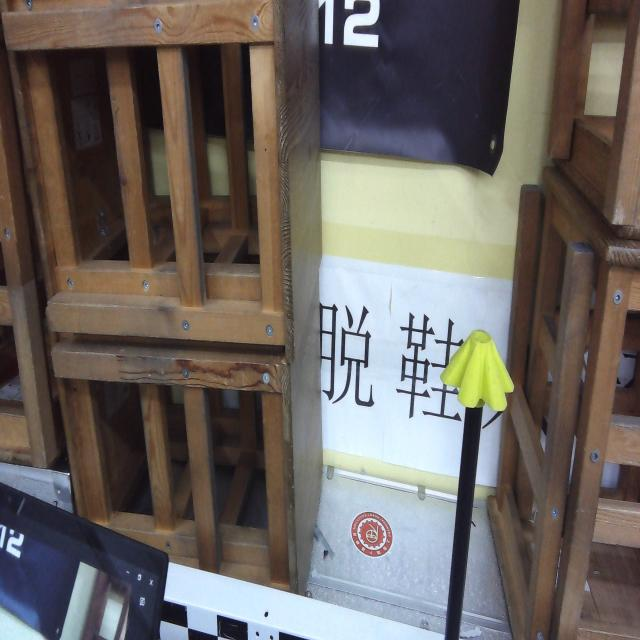Yellow-Stake-Head: (440, 329, 514, 412)
